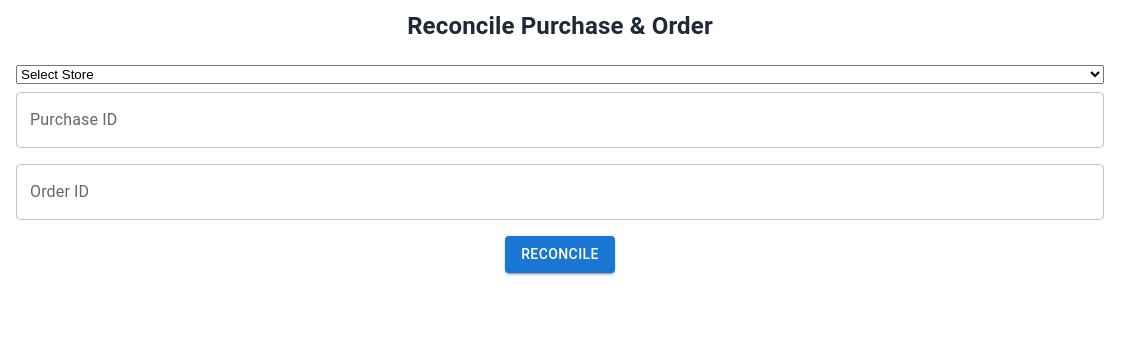
Scenario: ReconcileForm › success path
Select "Shop" in the dropdown named "Shop" at (560, 75), box [16, 65, 1104, 84]
Type "P1" into the field labelled "Purchase ID" at (560, 120), box [16, 92, 1104, 148]
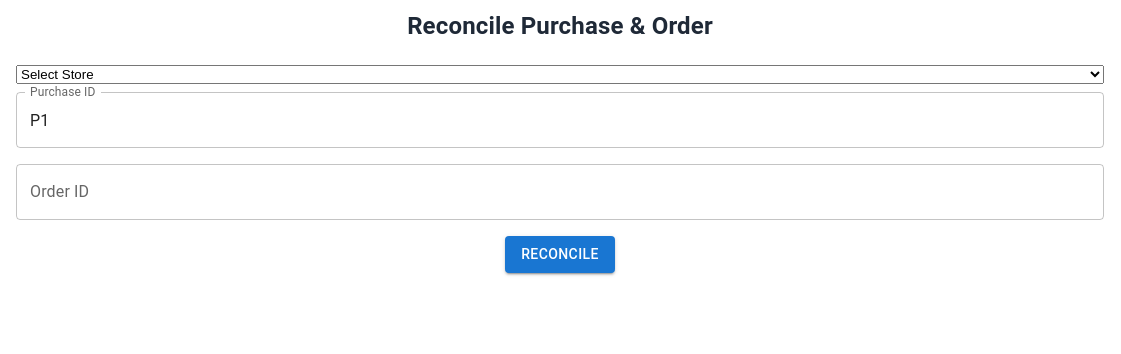
Type "O1" into the field labelled "Order ID" at (560, 192), box [16, 164, 1104, 220]
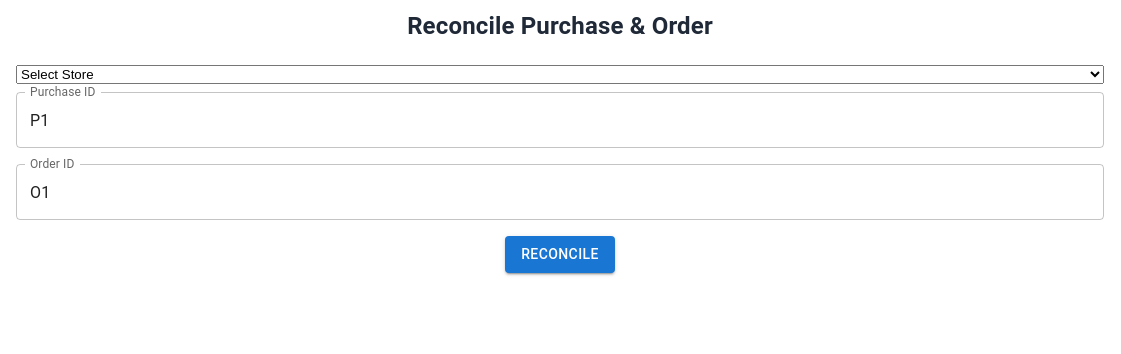
Click the button "Reconcile" at (560, 254), box [505, 236, 615, 273]
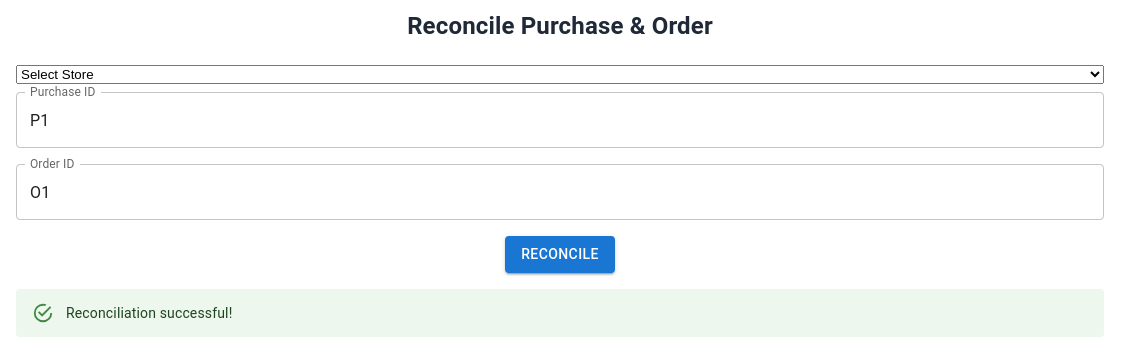
Check: the text "Reconciliation successful!" is shown, box [66, 305, 232, 321]
